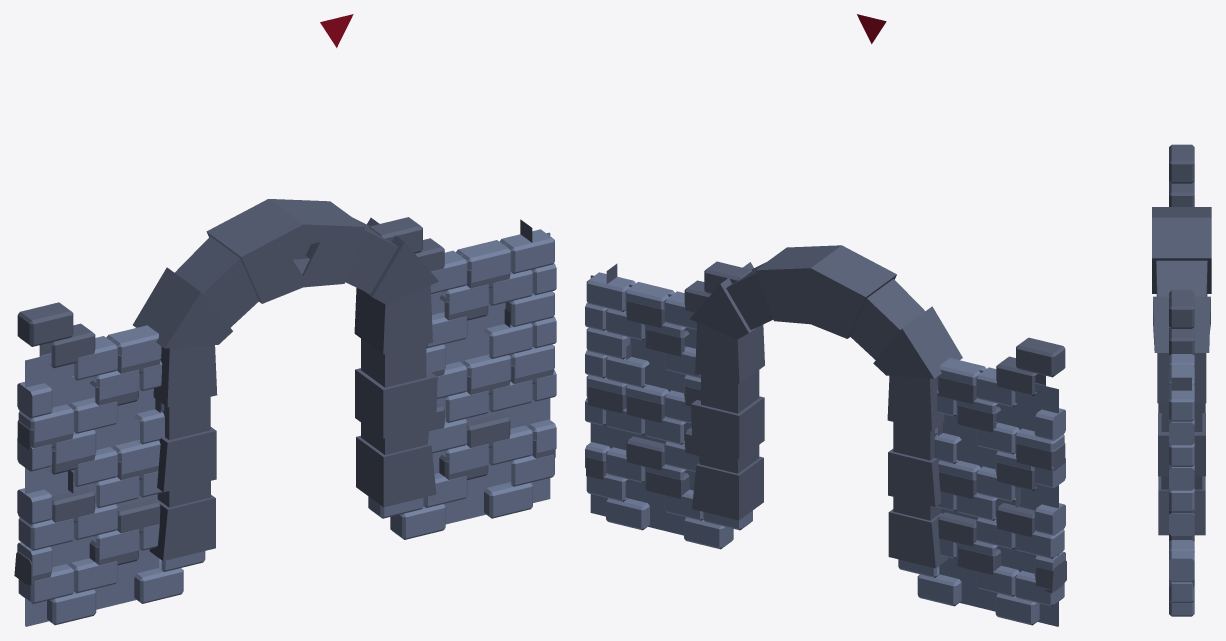
File: brick-wall-with-door.glb
3 renders of one model, left to right at view 1: azimuth 30°, elevation 25°; view 2: azimuth 150°, elevation 25°; view 3: azimuth 270°, elevation 25°, orthographic. The views are drawn at different scales.
Parts seen in each view (by area): view 1: brick wall with door; view 2: brick wall with door; view 3: brick wall with door.
Part boxes in pixels (<box>): brick wall with door: <box>14,14,556,626</box>; brick wall with door: <box>585,14,1066,626</box>; brick wall with door: <box>1152,144,1211,616</box>.
Bounding box in the file's own units: 2 × 2.12 × 0.4513.
